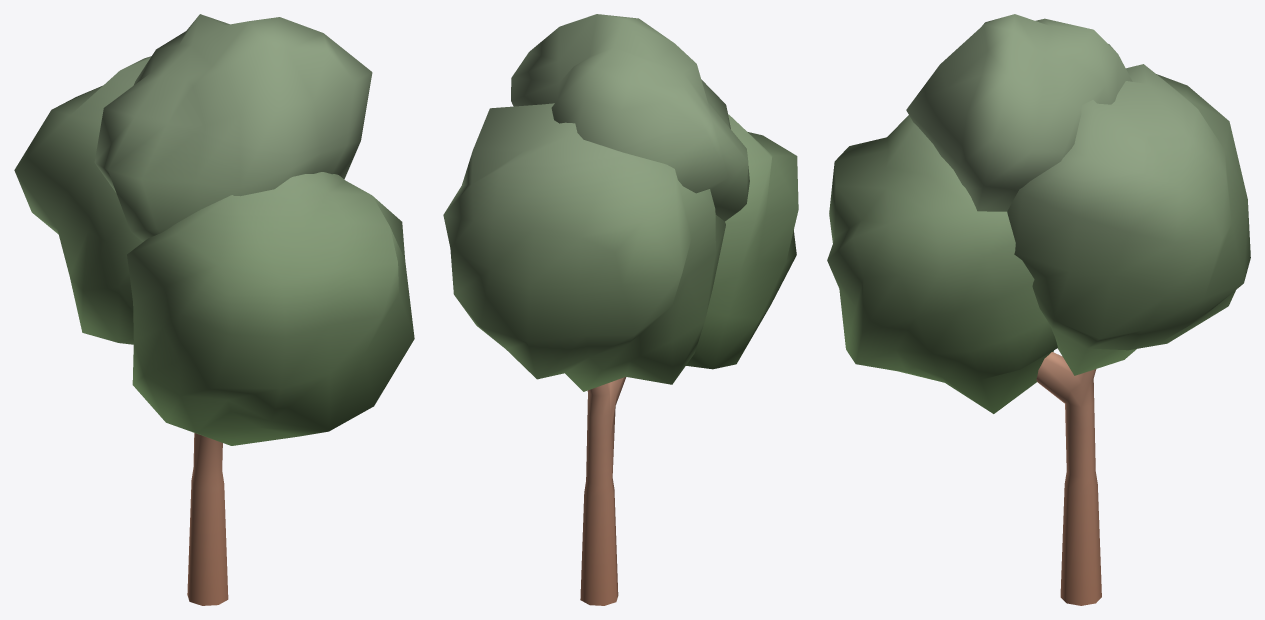
Rendered from WE01_Kinship_BigTree1.fbx.
3 renders of one model, left to right at view 1: azimuth 30°, elevation 25°; view 2: azimuth 150°, elevation 25°; view 3: azimuth 270°, elevation 25°, orthographic. The views are drawn at different scales.
Parts seen in each view (by area): view 1: BigTree1; view 2: BigTree1; view 3: BigTree1.
Part boxes in pixels (<box>): BigTree1: <box>14,14,414,605</box>; BigTree1: <box>443,14,798,605</box>; BigTree1: <box>827,14,1250,605</box>.
Size of the model in its own units: 7.24 by 15.58 by 10.2.
